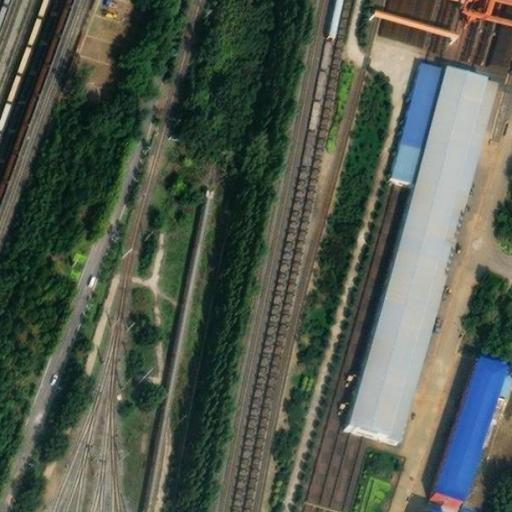building: (347, 57, 500, 432), (435, 348, 508, 496), (391, 51, 447, 178), (497, 357, 512, 395), (429, 502, 458, 512)
